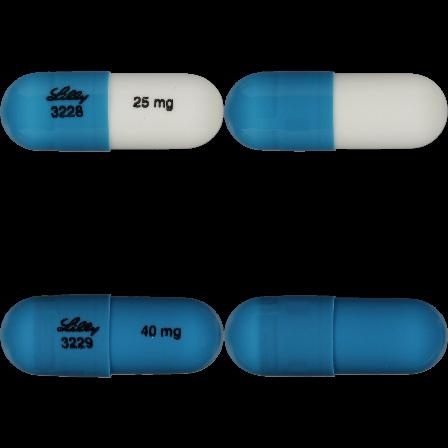0002-3228: (0, 0, 224, 224)
